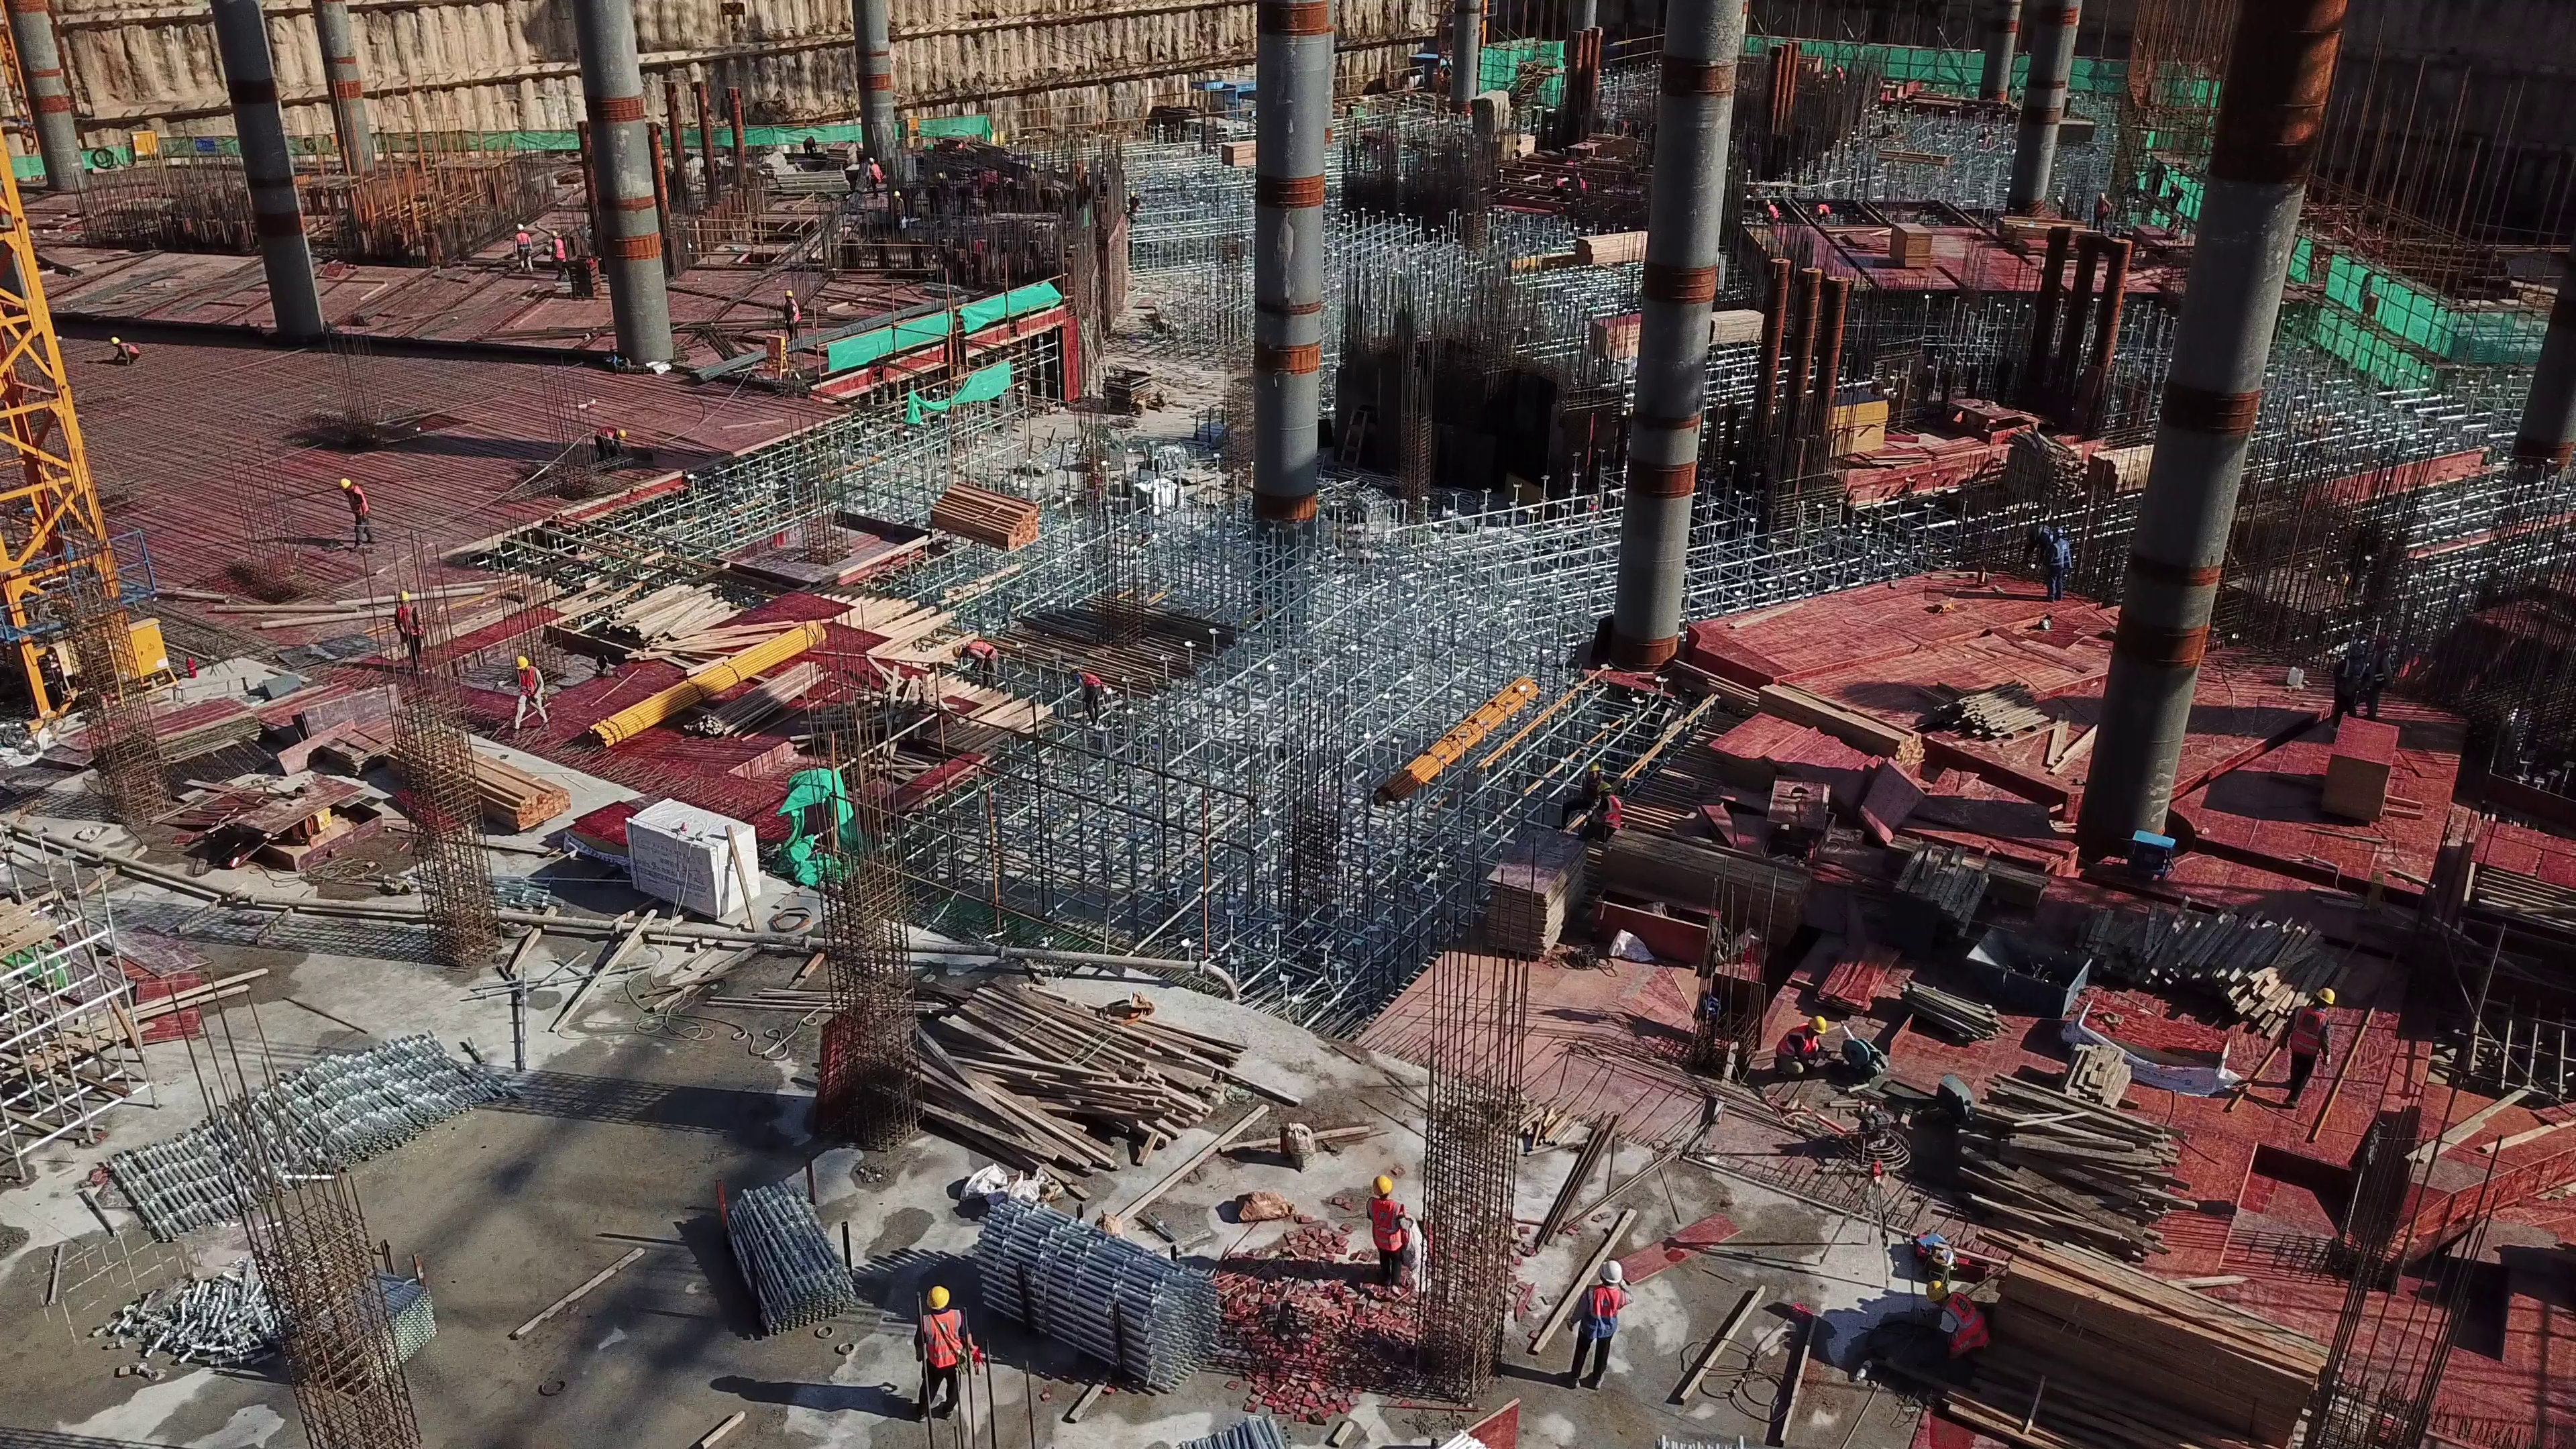board: (1488, 827, 1592, 957), (1726, 717, 1860, 810), (139, 693, 254, 782), (2322, 715, 2404, 819), (1589, 305, 1644, 368), (1890, 210, 1937, 268)
cutter: (1832, 1028, 1890, 1084)
ebox: (97, 616, 168, 681)
helmet: (1597, 1259, 1625, 1287), (2311, 985, 2343, 1010), (921, 1287, 947, 1310), (1923, 1278, 1950, 1300), (1372, 1178, 1393, 1199), (1811, 1017, 1827, 1037), (513, 655, 529, 672), (394, 592, 413, 604), (337, 476, 352, 490), (616, 426, 628, 441), (108, 335, 119, 345)
person: (907, 1287, 969, 1424), (1561, 1259, 1624, 1386), (2282, 982, 2333, 1110), (1921, 1277, 1990, 1371), (1362, 1172, 1412, 1296), (1772, 1010, 1825, 1082), (511, 653, 549, 733), (2329, 645, 2363, 736), (338, 475, 374, 549), (393, 592, 427, 675), (1560, 761, 1599, 827), (1065, 661, 1102, 729), (953, 641, 998, 690), (2367, 637, 2392, 722), (1591, 782, 1624, 842), (2044, 529, 2070, 598), (592, 425, 627, 460), (511, 221, 534, 272), (778, 290, 802, 339), (108, 336, 142, 369), (549, 230, 568, 282), (867, 154, 881, 198), (892, 189, 906, 227)
scaffold: (101, 1036, 494, 1242), (965, 1190, 1205, 1391), (103, 1256, 473, 1376), (686, 1190, 853, 1330), (1190, 1405, 1295, 1449)
vest: (904, 1314, 960, 1375), (1362, 1197, 1407, 1255), (1942, 1296, 1985, 1352), (1580, 1287, 1626, 1337), (2289, 1006, 2327, 1055), (1777, 1026, 1820, 1059), (347, 487, 375, 525), (510, 666, 541, 701), (395, 606, 425, 641), (963, 637, 994, 661), (2049, 535, 2069, 571), (1603, 799, 1621, 828), (549, 240, 566, 262), (517, 233, 531, 254)
wood: (894, 974, 1210, 1153), (2010, 1259, 2291, 1449), (1955, 1095, 2155, 1252), (2099, 905, 2302, 1030), (396, 745, 569, 855), (568, 576, 739, 674), (1939, 678, 2088, 777), (1896, 857, 1998, 950), (925, 488, 1035, 559), (1572, 231, 1646, 275), (2080, 449, 2147, 492)
